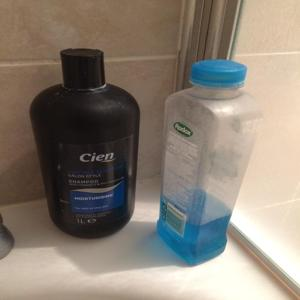plastic bottle: (152, 40, 265, 272), (24, 33, 147, 245)
